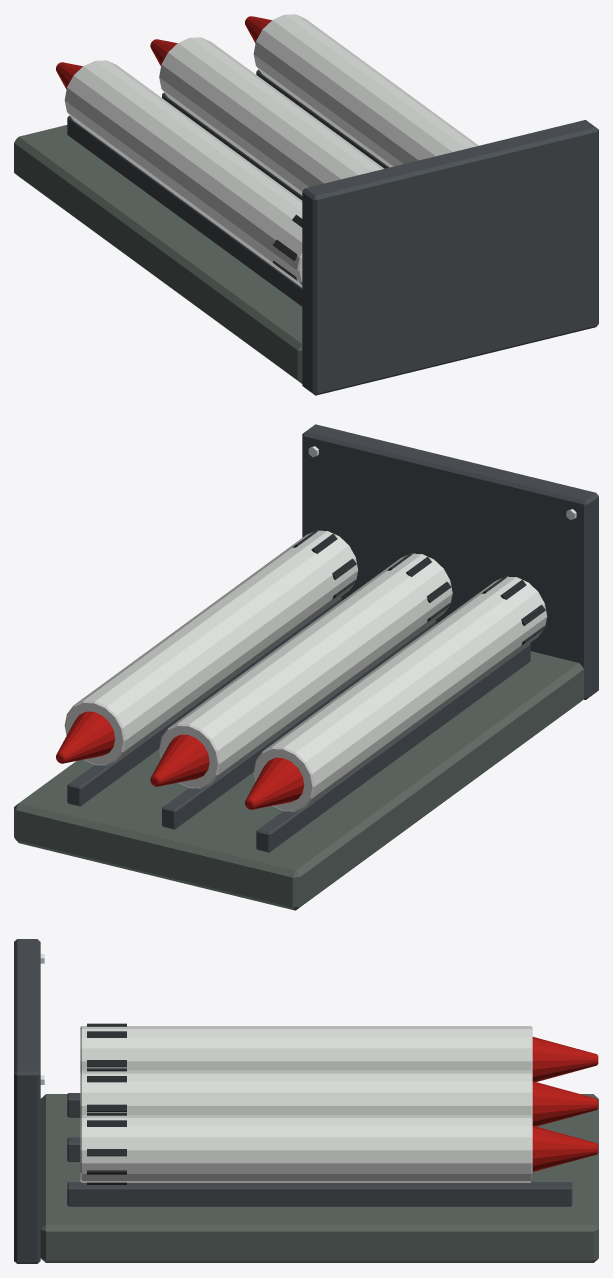
The model's file is missile_rack.glb.
The picture shows the model from 3 angles, top to bottom: view 1: azimuth 30°, elevation 25°; view 2: azimuth 150°, elevation 25°; view 3: azimuth 270°, elevation 25°; orthographic projection. The views are drawn at different scales.
Parts seen in each view (by area): view 1: missile_rack; view 2: missile_rack; view 3: missile_rack.
Part boxes in pixels (bbox=[...]): missile_rack: bbox=[14, 14, 598, 395]; missile_rack: bbox=[14, 424, 598, 910]; missile_rack: bbox=[14, 939, 598, 1263].
Bounding box in the file's own units: 1.2 × 0.8 × 2.2.
